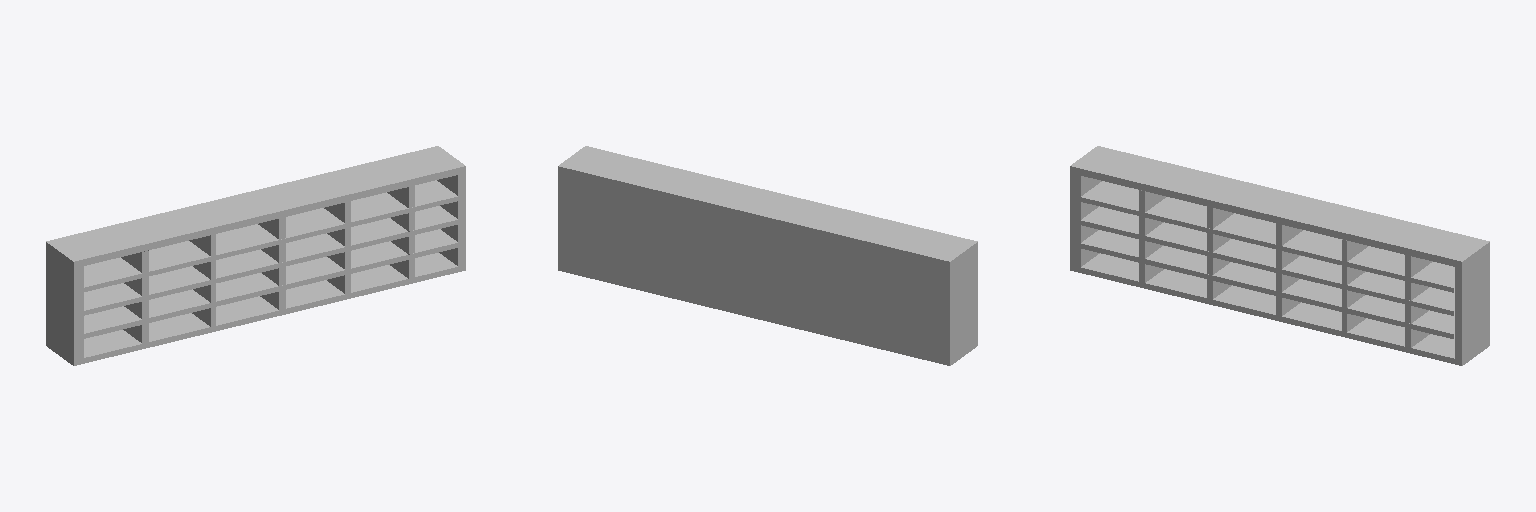
Rendered from LongShelf.obj.
3 views of the same model, side by side, from view 1: azimuth 30°, elevation 25°; view 2: azimuth 150°, elevation 25°; view 3: azimuth 330°, elevation 25° (orthographic).
Parts seen in each view (by area): view 1: pCube1; view 2: pCube1; view 3: pCube1.
Boxes of the visible parts, <box> form: pCube1: <box>46,146,465,365</box>; pCube1: <box>558,146,977,365</box>; pCube1: <box>1070,146,1489,365</box>.
Size of the model in its own units: 30.61 by 7.78 by 3.77.